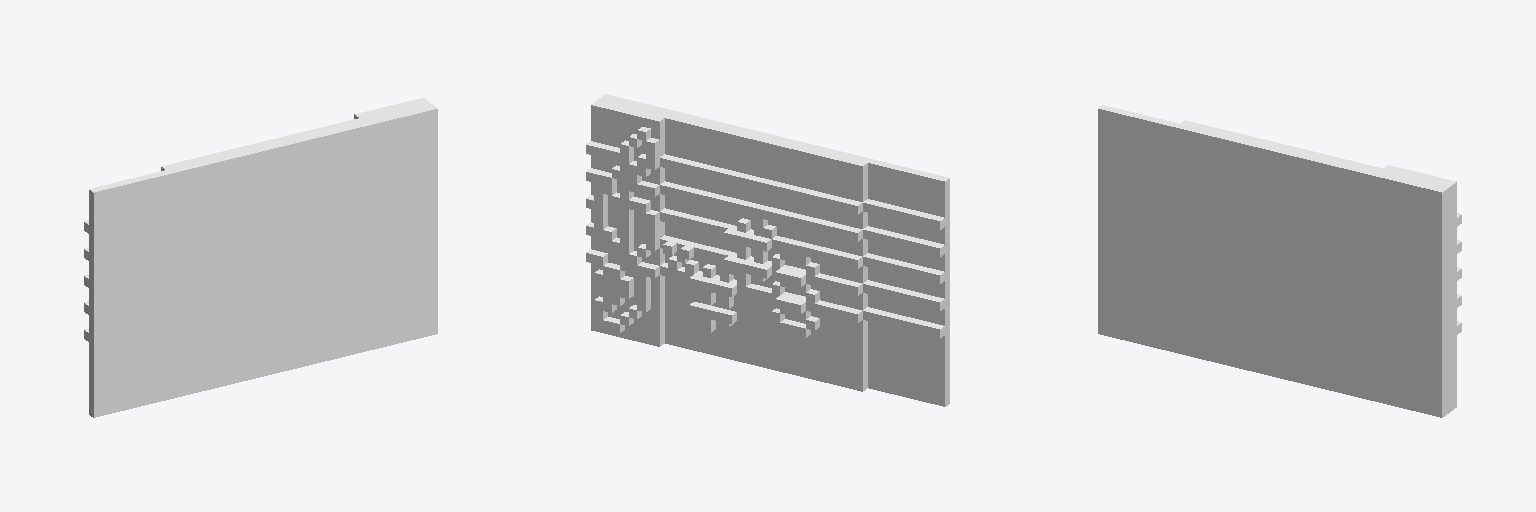
File: pentagramaReSostenidomayor.obj
3 renders of one model, left to right at view 1: azimuth 30°, elevation 25°; view 2: azimuth 150°, elevation 25°; view 3: azimuth 330°, elevation 25°, orthographic.
Visible parts, largest first — view 1: object 1; view 2: object 1; view 3: object 1.
Part boxes in pixels (x1,y1,x2,y2): object 1: (84, 98, 437, 417); object 1: (586, 94, 949, 406); object 1: (1098, 105, 1461, 417).
Bounding box in the file's own units: 4 × 2.5 × 0.4.